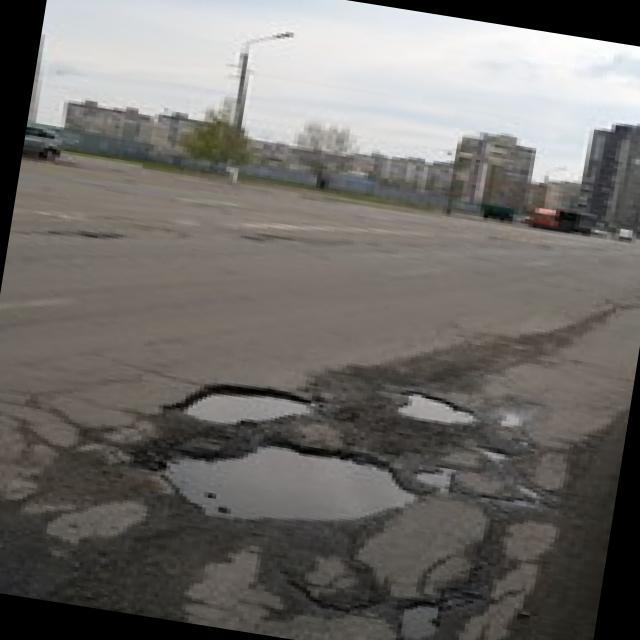Pothole: (143, 422, 427, 548), (174, 372, 321, 440), (393, 387, 480, 432), (410, 461, 460, 498), (474, 445, 510, 465)
